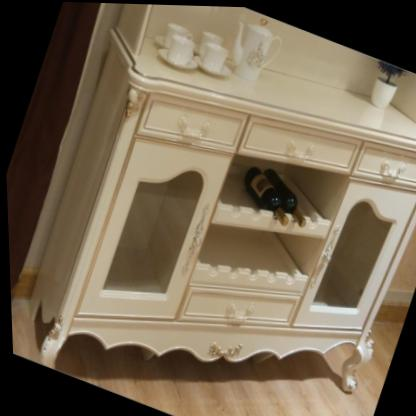Cupboard: (10, 2, 416, 391)
